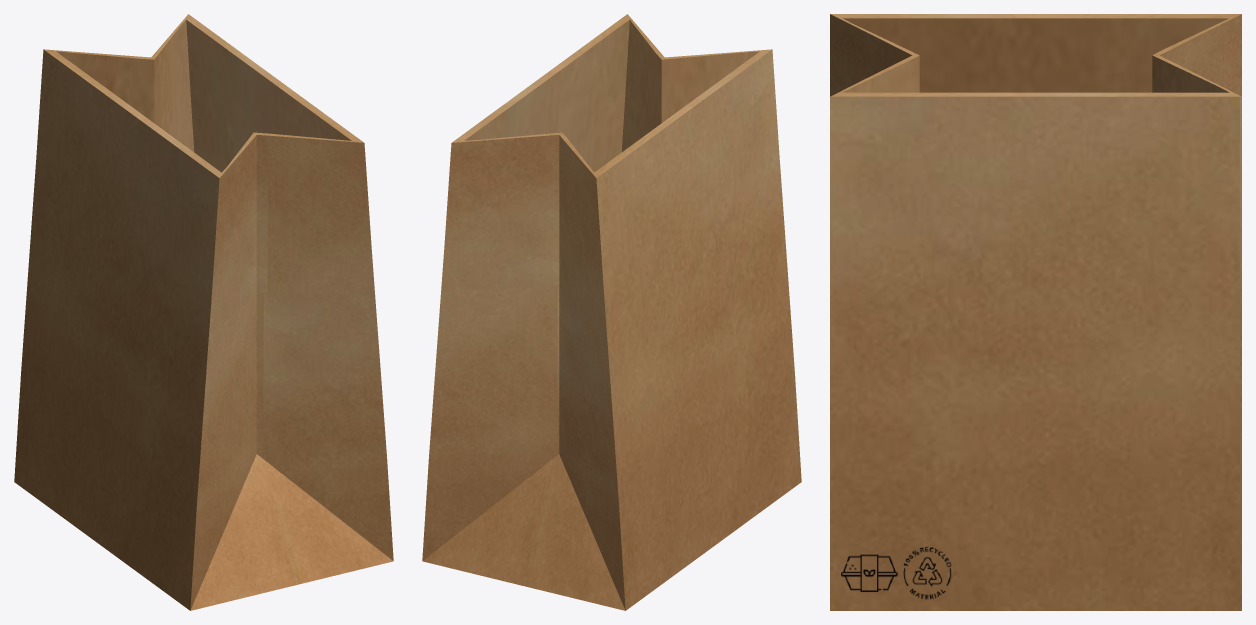
Rendered from paper bag We are cooked.fbx.
The picture shows the model from 3 angles, left to right: view 1: azimuth 30°, elevation 25°; view 2: azimuth 150°, elevation 25°; view 3: azimuth 270°, elevation 25°; orthographic projection. The views are drawn at different scales.
Parts seen in each view (by area): view 1: Cube.001; view 2: Cube.001; view 3: Cube.001.
Part boxes in pixels (<box>): Cube.001: <box>14,14,393,610</box>; Cube.001: <box>422,14,801,610</box>; Cube.001: <box>830,14,1241,610</box>.
Size of the model in its own units: 10 by 20 by 15.
